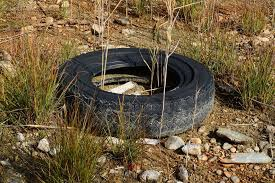tire: (62, 48, 214, 141)
